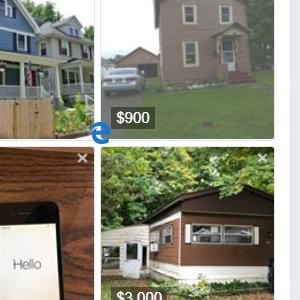edge: (90, 122, 110, 144)
